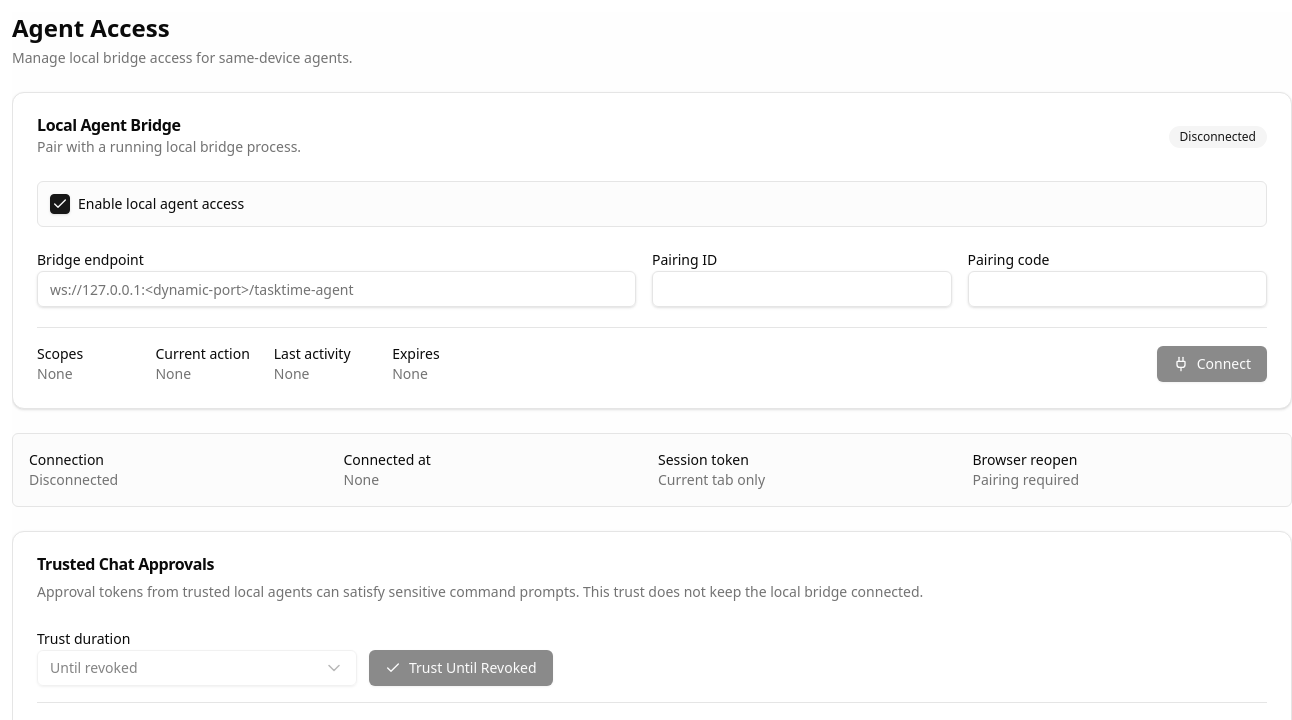
AgentBridgeSettings › shows browser and endpoint diagnostics before connecting
Type "ws://127.0.0.1/custom-path" into the field labelled "Bridge endpoint" at (336, 289), box [37, 271, 636, 307]
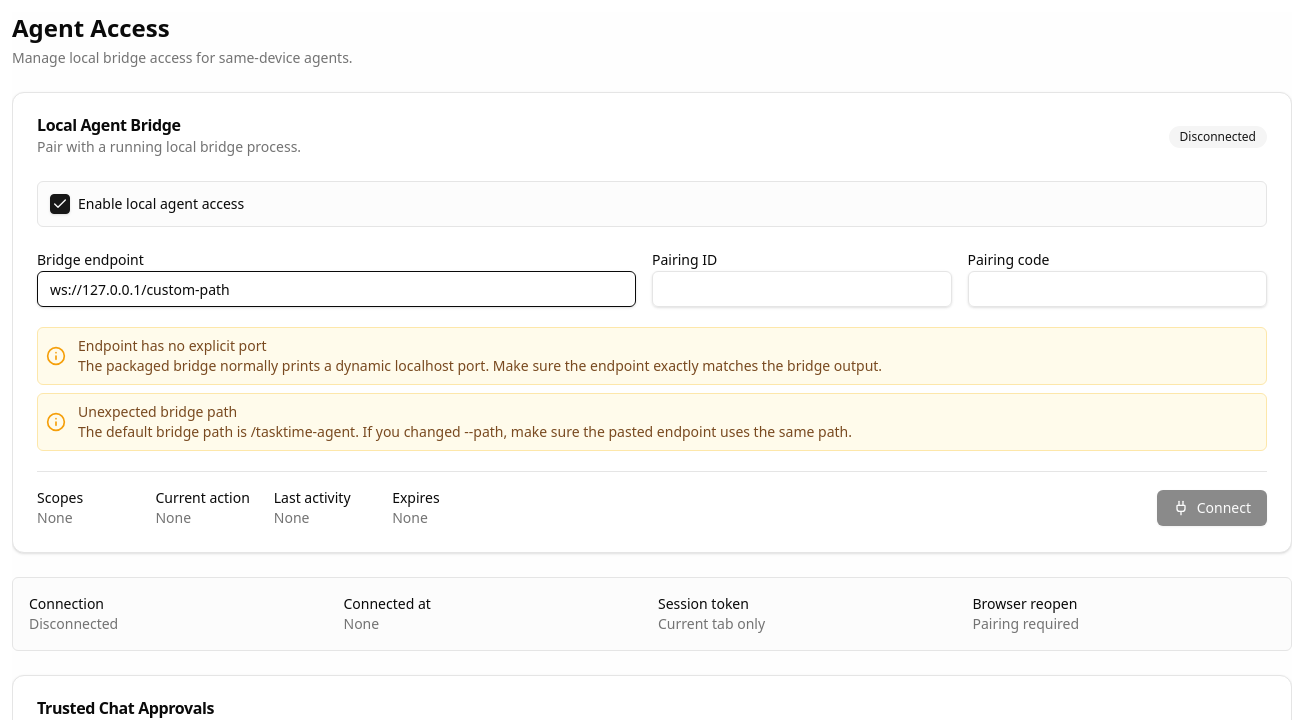
Expected: the text "Endpoint has no explicit port" is shown, [78, 336, 266, 355]
Expected: the text "Unexpected bridge path" is shown, [78, 402, 237, 421]
